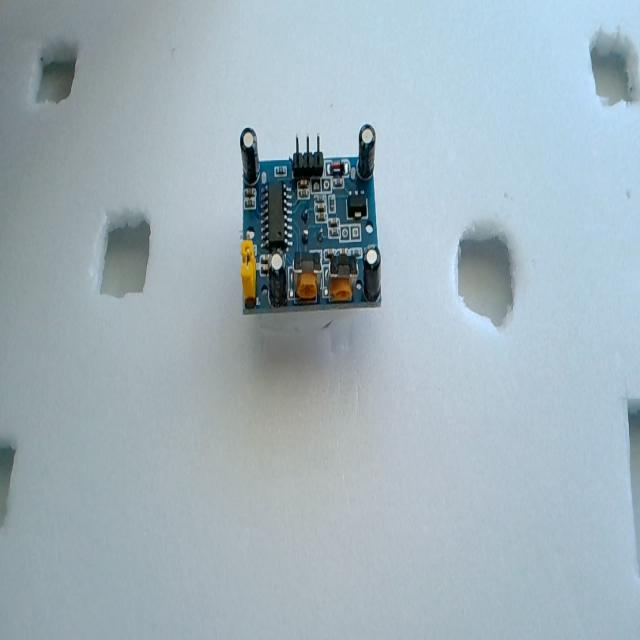Electrolytic capacitor: (240, 126, 259, 185), (358, 123, 376, 182), (363, 246, 381, 302), (268, 254, 286, 306)
IC: (260, 180, 290, 252)
pinheader: (291, 129, 327, 181)
